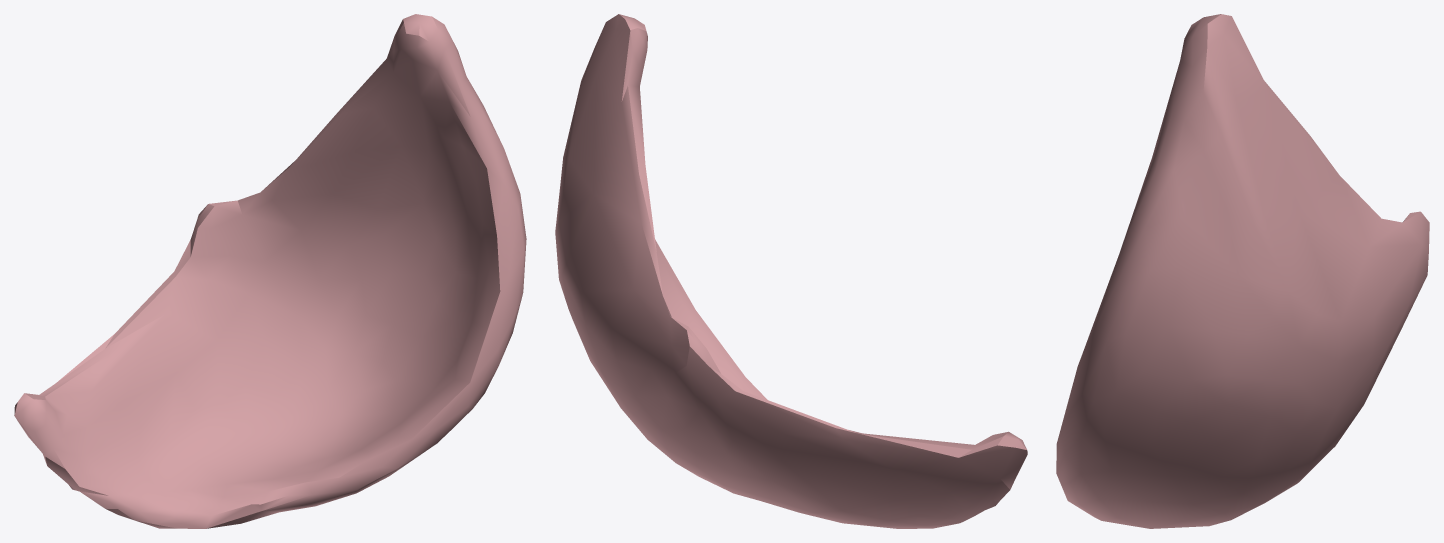
Rendered from fma7253_mm524.glb.
3 views of the same model, side by side, from view 1: azimuth 30°, elevation 25°; view 2: azimuth 150°, elevation 25°; view 3: azimuth 270°, elevation 25° (orthographic). The views are drawn at different scales.
Visible parts, largest first — view 1: FMA7253_MM524; view 2: FMA7253_MM524; view 3: FMA7253_MM524.
Boxes of the visible parts, x1,y1,x2,y2 form: FMA7253_MM524: (14, 14, 526, 528); FMA7253_MM524: (555, 14, 1027, 528); FMA7253_MM524: (1056, 14, 1429, 528).
Bounding box in the file's own units: 0.0225 × 0.0203 × 0.0116.
